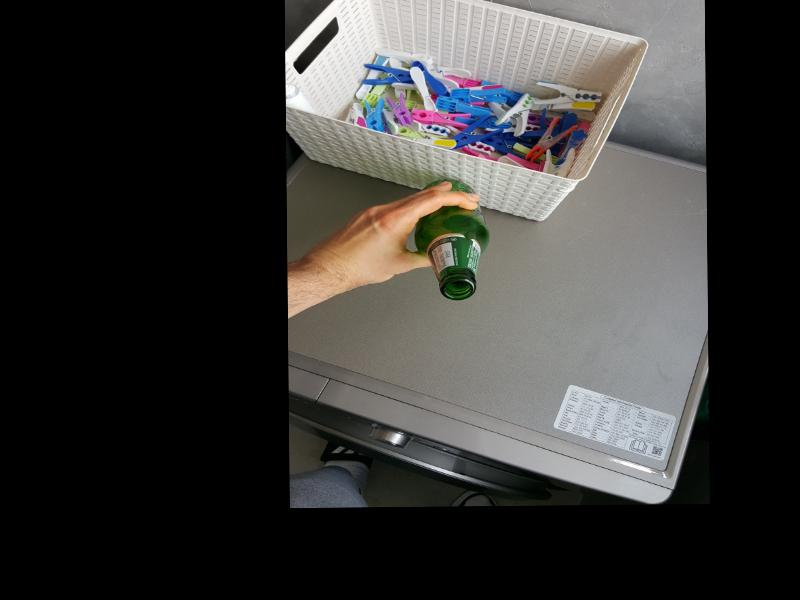Beer: (414, 179, 489, 300)
